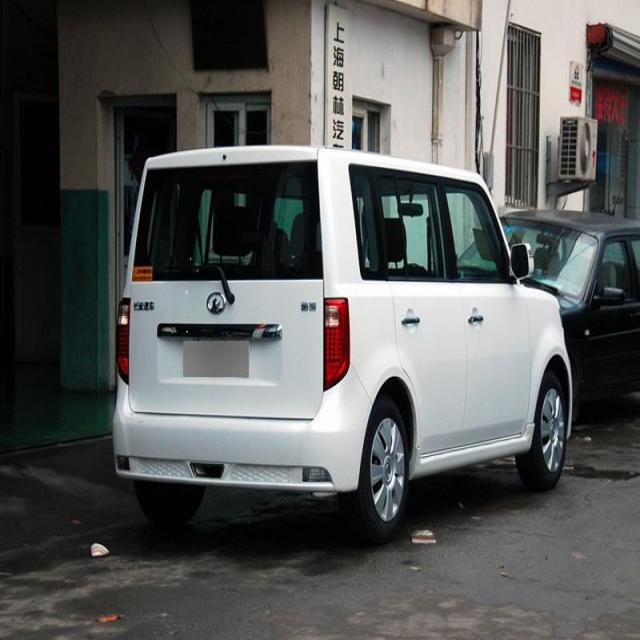back_glass: (128, 154, 325, 284)
back_left_side_light: (114, 292, 134, 385)
back_right_side_light: (322, 293, 352, 397)
door: (372, 174, 472, 459)
front_right_side_door: (438, 172, 534, 452)
front_right_side_mirror: (511, 240, 536, 282)
rear_bumper: (110, 362, 370, 494)
wheel: (361, 408, 410, 536), (522, 369, 569, 491)
